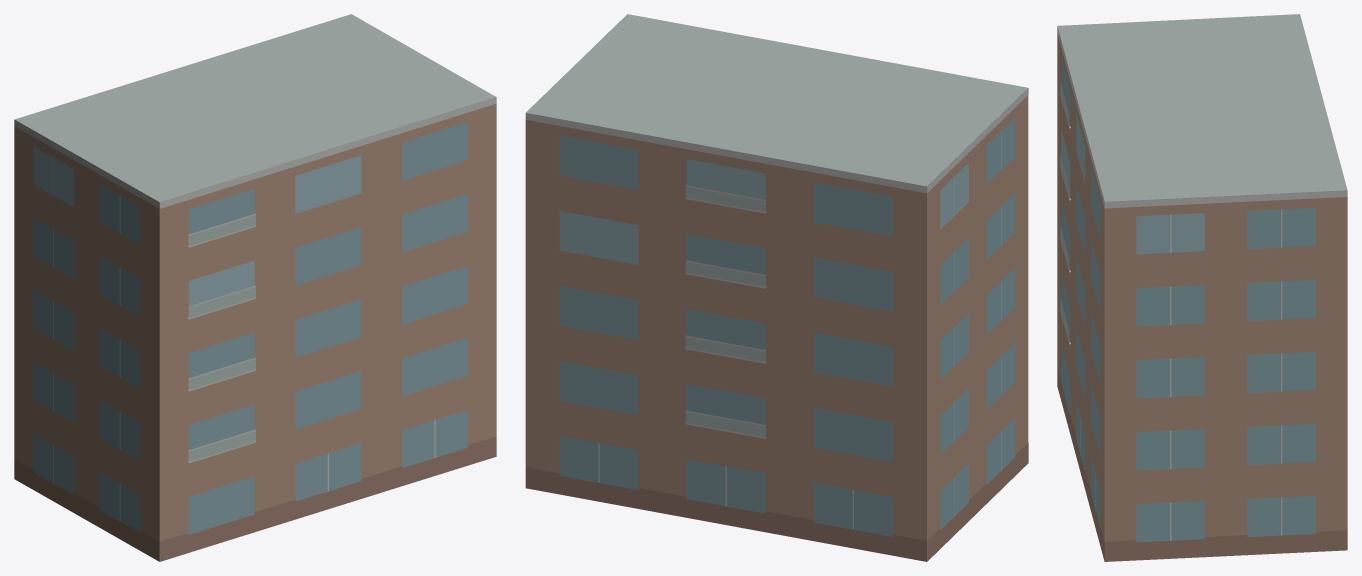
Rendered from survey-upis-32886141.glb.
3 views of the same model, side by side, from view 1: azimuth 30°, elevation 25°; view 2: azimuth 150°, elevation 25°; view 3: azimuth 270°, elevation 25° (orthographic). The views are drawn at different scales.
Visible parts, largest first — view 1: survey-upis-32886141.tmp; view 2: survey-upis-32886141.tmp; view 3: survey-upis-32886141.tmp.
Part boxes in pixels (x1=…): survey-upis-32886141.tmp: x1=14, y1=14, x2=496, y2=561; survey-upis-32886141.tmp: x1=525, y1=14, x2=1028, y2=561; survey-upis-32886141.tmp: x1=1057, y1=14, x2=1347, y2=561.
Bounding box in the file's own units: 14.78 × 13.2 × 9.66.
